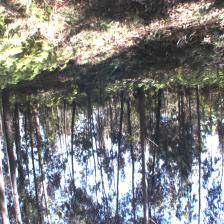trunktrack_idkeyframe: (1, 91, 15, 168), (137, 86, 147, 185), (31, 105, 44, 169), (15, 104, 22, 157), (118, 92, 124, 140), (71, 102, 76, 157), (156, 90, 162, 123), (196, 84, 200, 129), (127, 99, 132, 134)
